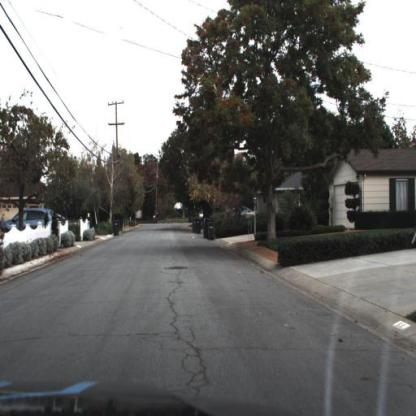car: (1, 207, 65, 243), (226, 205, 259, 230)
